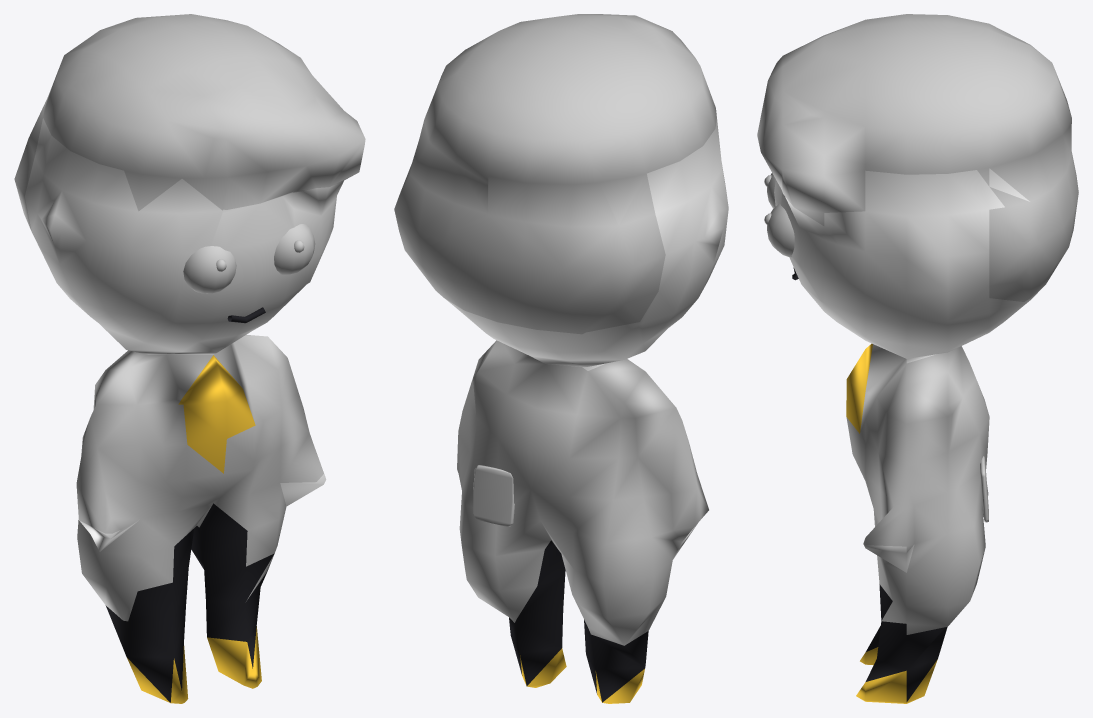
Rendered from idol_boy_g_lod.fbx.
3 views of the same model, side by side, from view 1: azimuth 30°, elevation 25°; view 2: azimuth 150°, elevation 25°; view 3: azimuth 270°, elevation 25° (orthographic). The views are drawn at different scales.
Visible parts, largest first — view 1: idol_boy_g_lod; view 2: idol_boy_g_lod; view 3: idol_boy_g_lod.
Part boxes in pixels (x1,y1,x2,y2): idol_boy_g_lod: (14,14,365,703); idol_boy_g_lod: (394,14,728,703); idol_boy_g_lod: (757,14,1078,703).
Bounding box in the file's own units: 0.563 × 1.22 × 0.5492.
